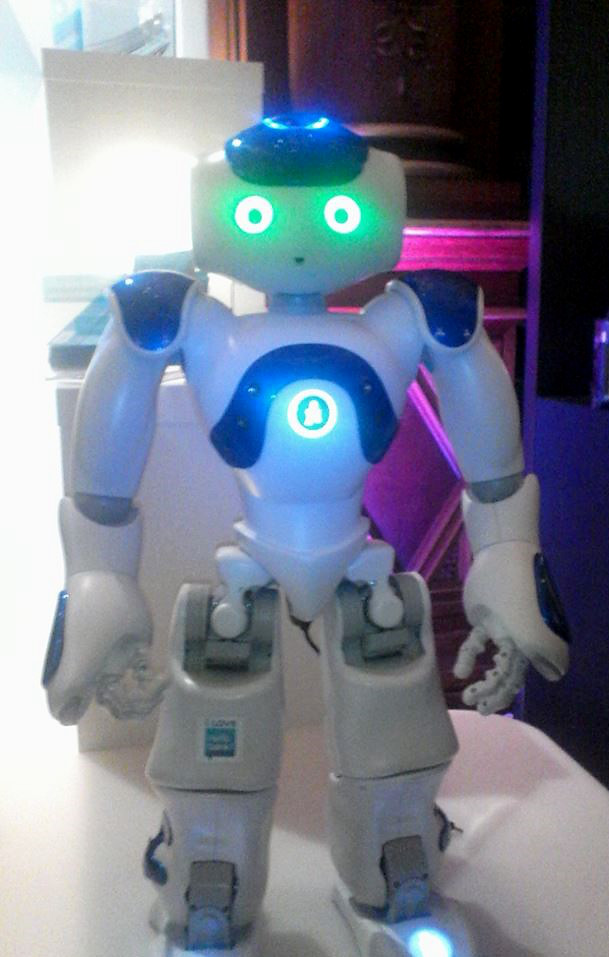nao: (38, 104, 580, 956)
